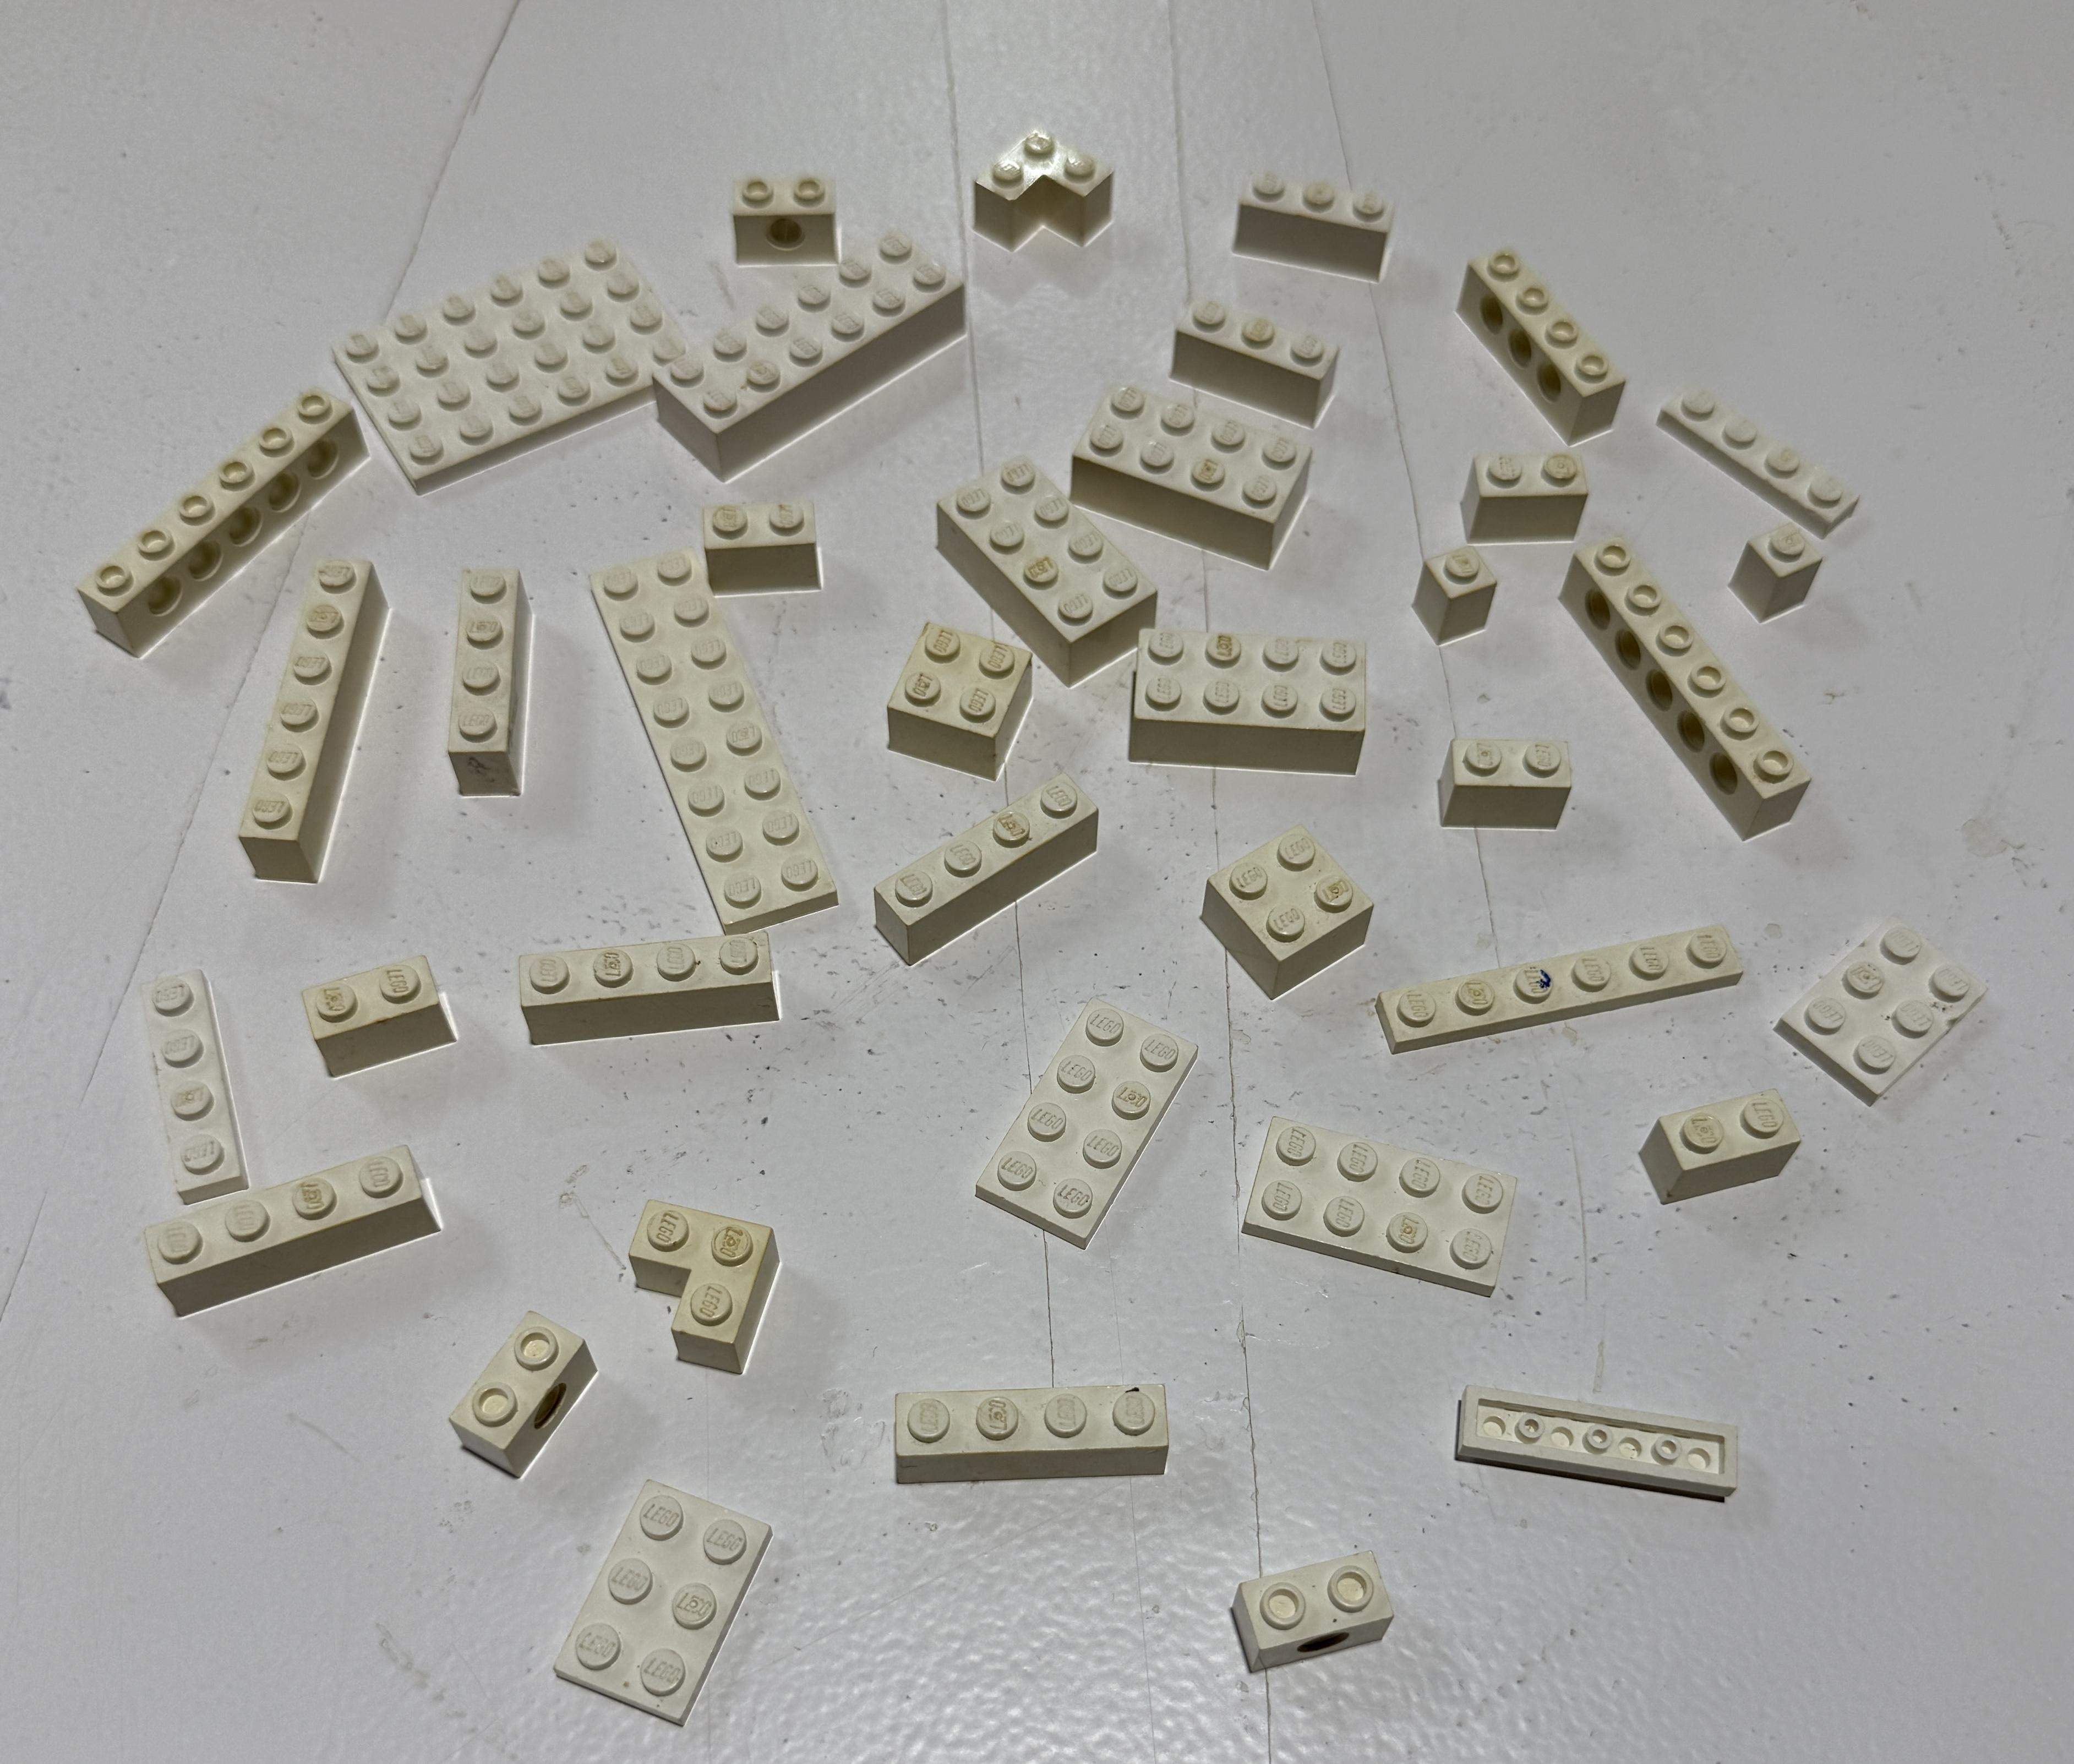brick_1x1: (1395, 507, 1524, 665), (1712, 497, 1848, 635)
brick_1x2: (404, 1283, 651, 1500), (649, 466, 856, 630), (1213, 1526, 1411, 1689), (1626, 1071, 1813, 1227), (287, 942, 478, 1090), (1433, 709, 1605, 866), (711, 152, 865, 283)
brick_1x3: (1153, 282, 1367, 434), (1216, 143, 1428, 289)
brick_1x4: (100, 1115, 462, 1337), (852, 767, 1129, 975), (859, 1353, 1216, 1514), (121, 940, 296, 1232), (1447, 221, 1656, 459), (427, 535, 558, 828)
brick_2x2: (842, 605, 1068, 817), (1194, 801, 1393, 1005)
brick_2x4: (1052, 362, 1335, 581), (924, 441, 1167, 691), (1106, 600, 1391, 798)
